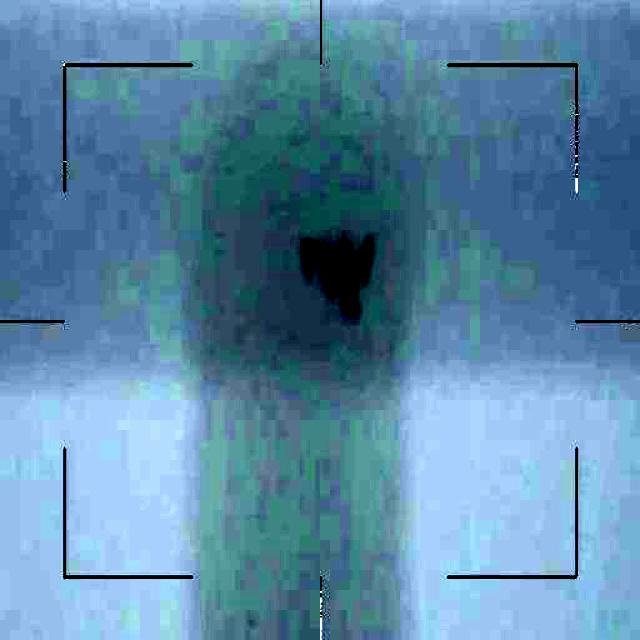bird: (289, 226, 385, 321)
